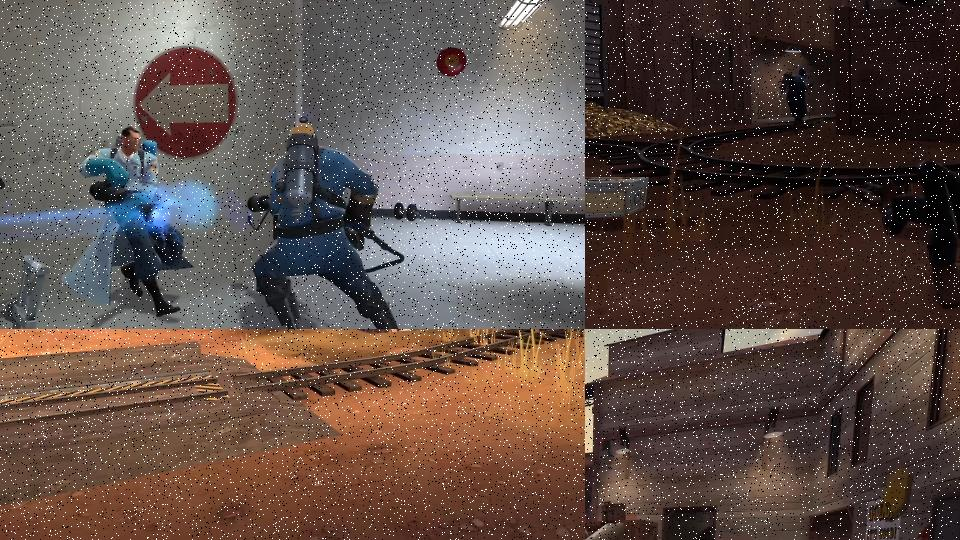Enemy: (248, 115, 415, 329), (62, 128, 192, 315), (879, 154, 960, 310), (780, 67, 816, 134), (378, 329, 412, 333)
